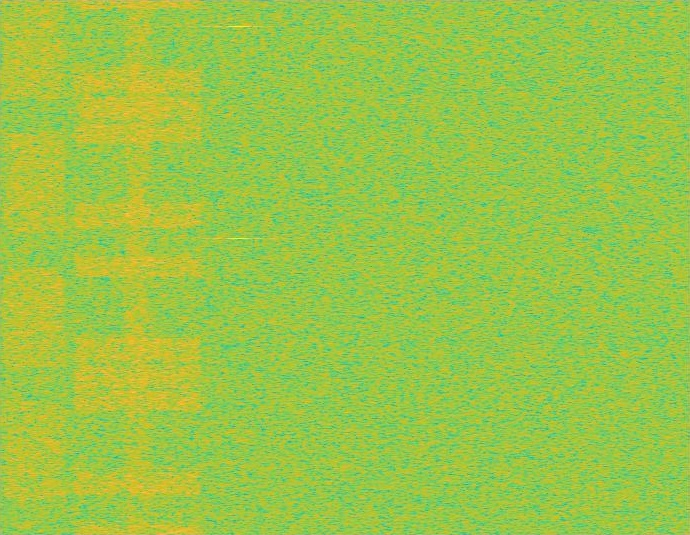5G: (0, 0, 69, 534)
DSSS: (122, 0, 154, 534)
LTE: (69, 0, 207, 534)
Radar: (232, 0, 246, 534)
